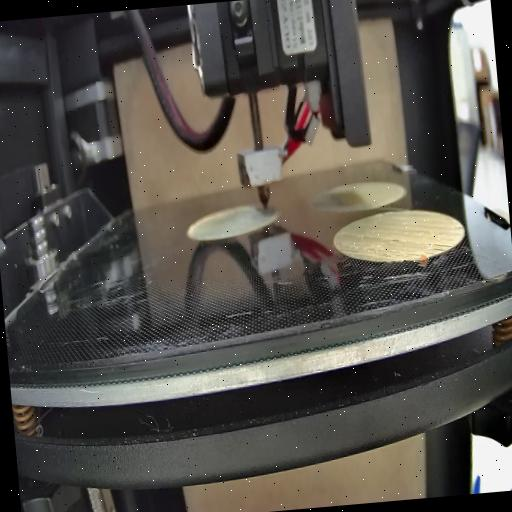under_extrusion: (420, 238, 451, 260), (363, 232, 401, 248), (338, 247, 362, 257), (402, 252, 419, 262)
